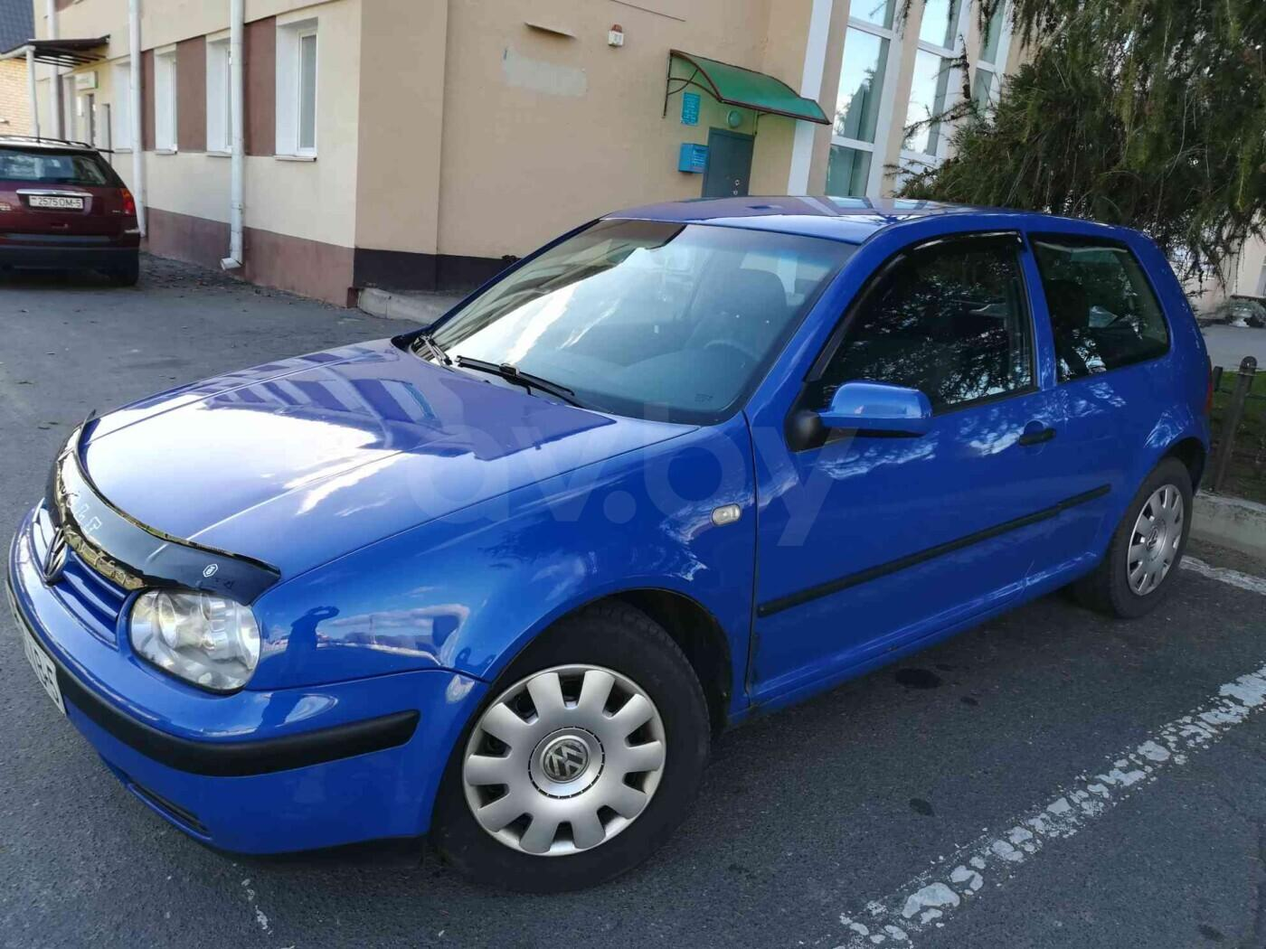Golf_1997-2006: (4, 196, 1220, 877)
